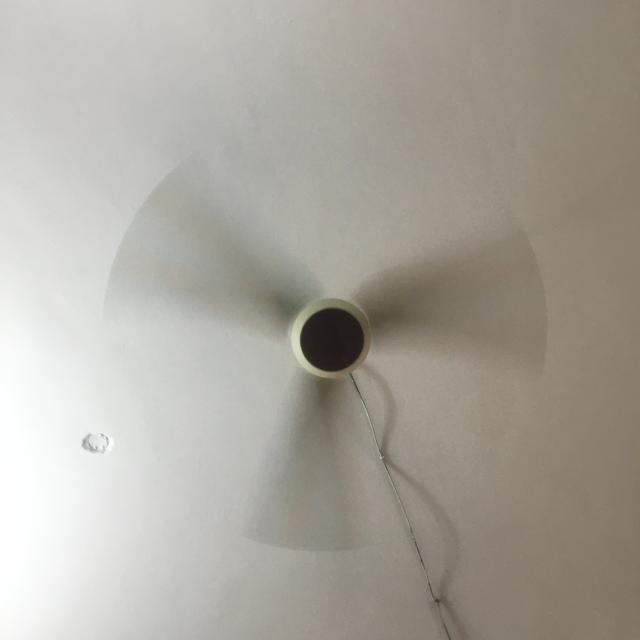on: (96, 145, 561, 554)
